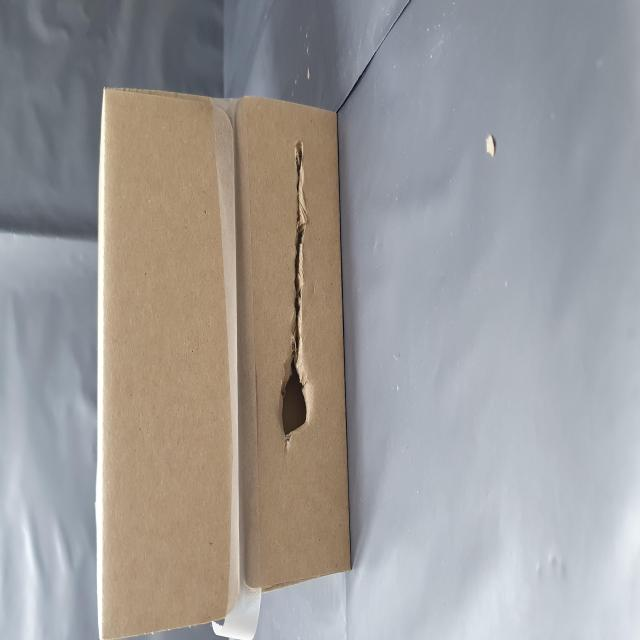damaged: (112, 494, 275, 565)
